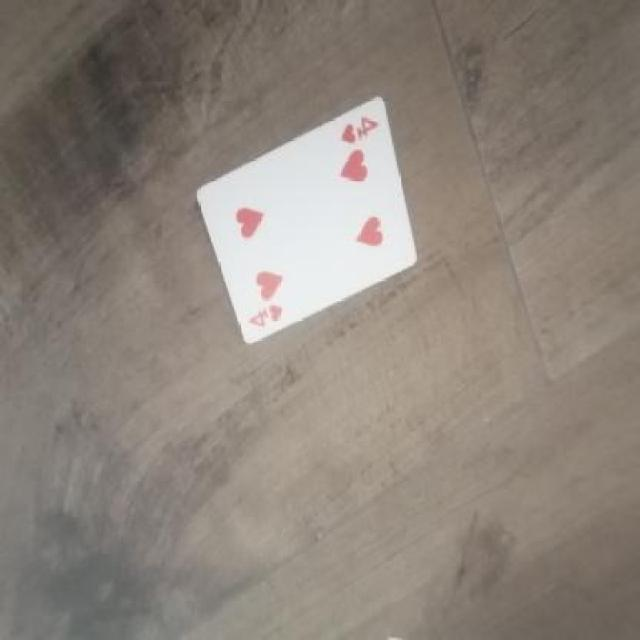4H: (238, 296, 287, 342), (340, 106, 380, 154)
